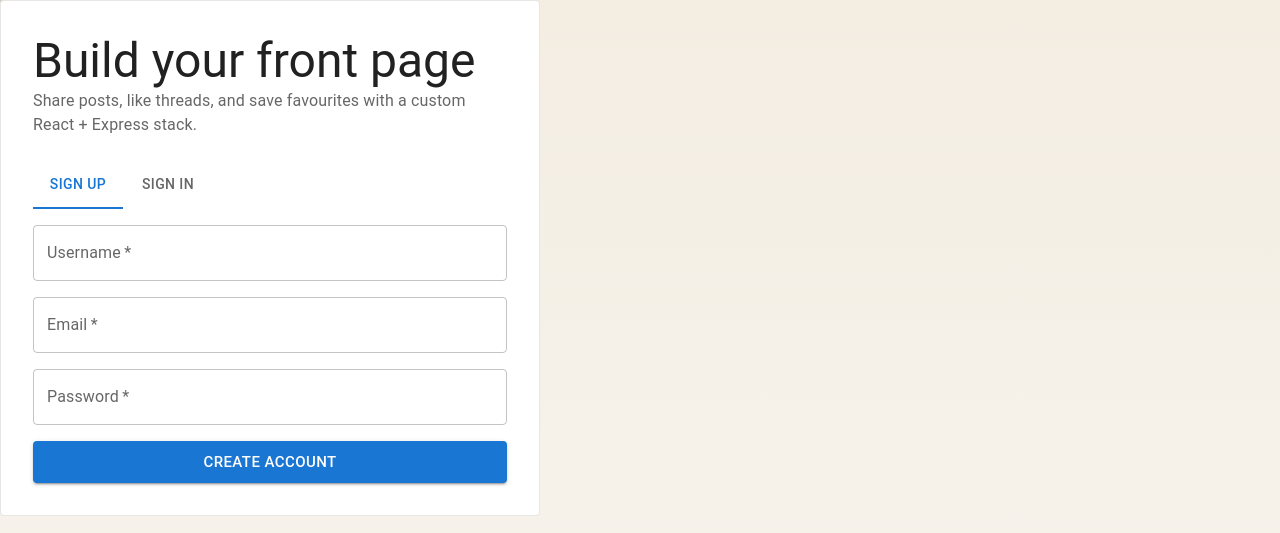
AuthForm › shows error alert when auth fails
Click the tab "Sign in" at x=168, y=185, box [123,161,213,209]
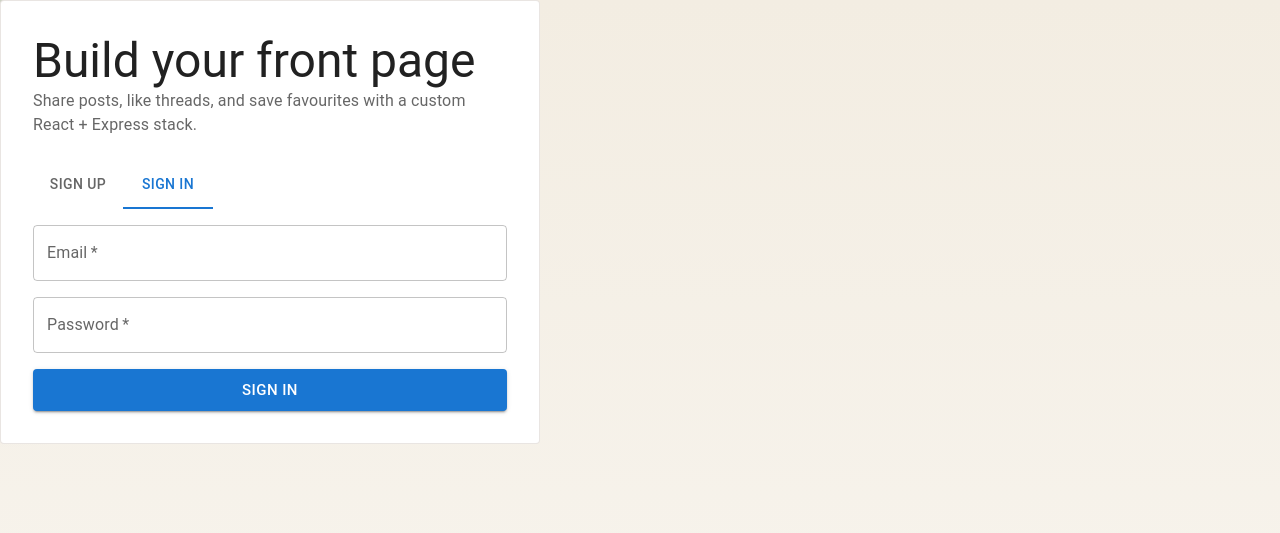
Type "bad@bad.com" into the field labelled "Email *" at x=270, y=253, box [33,225,507,281]
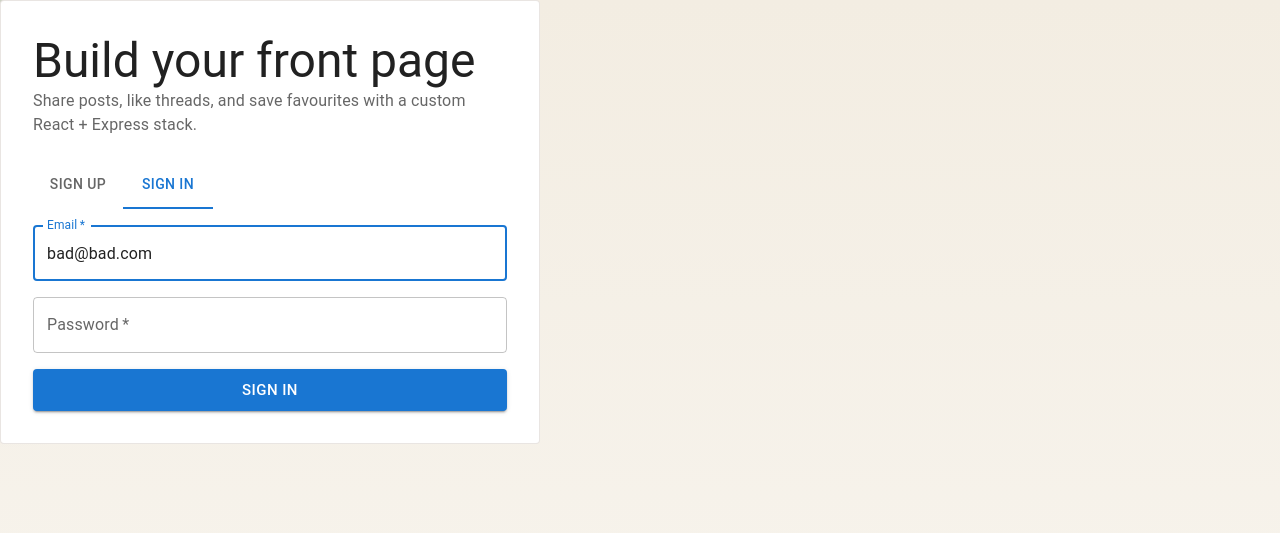
Type "wrong" into the password field labelled "Password *" at x=270, y=325, box [33,297,507,353]
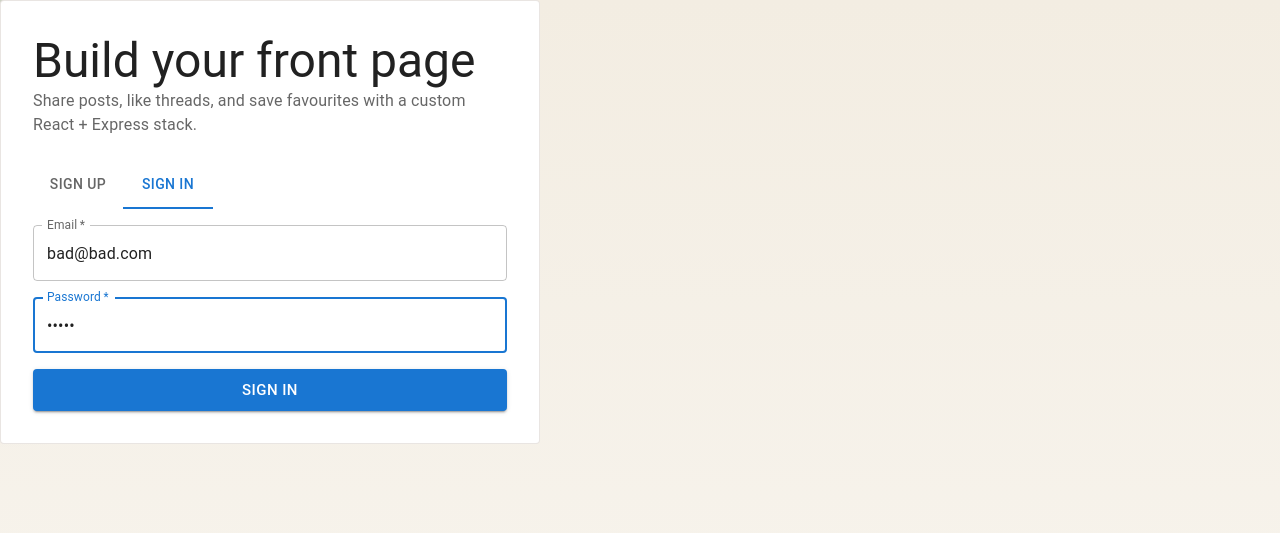
Click the button "Sign in" at x=270, y=390, box [33,369,507,411]
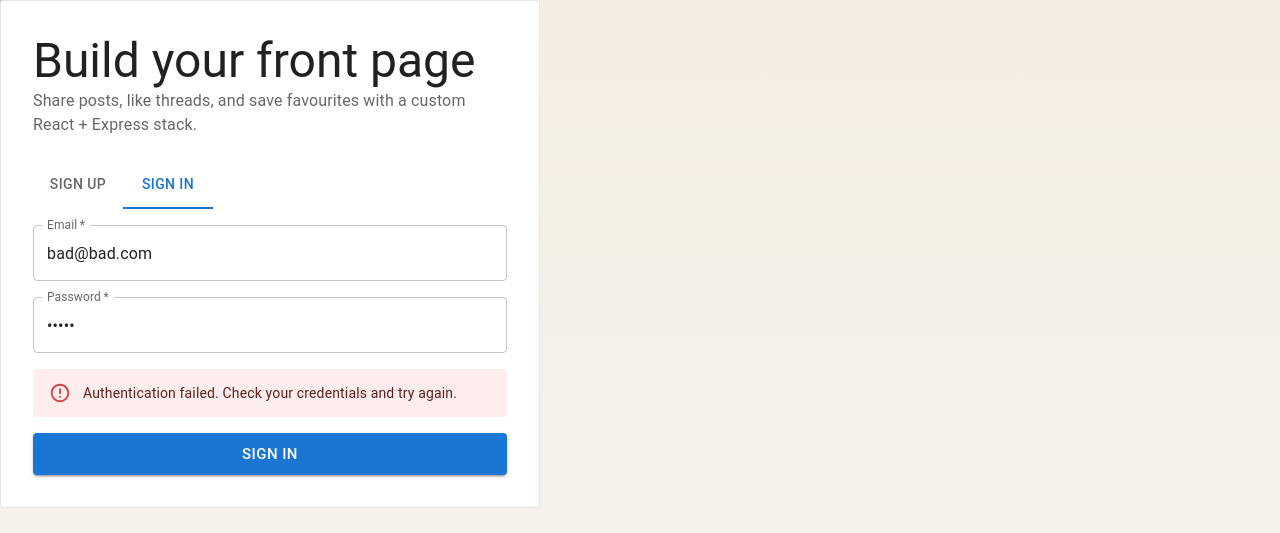
expect the message "Authentication failed. Check your credentials and try again." is shown: met, box [33,369,507,417]
